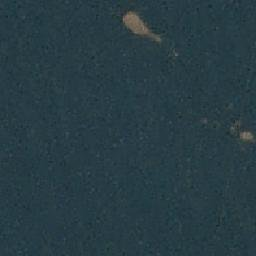debris: (121, 11, 162, 44), (226, 122, 253, 143)
